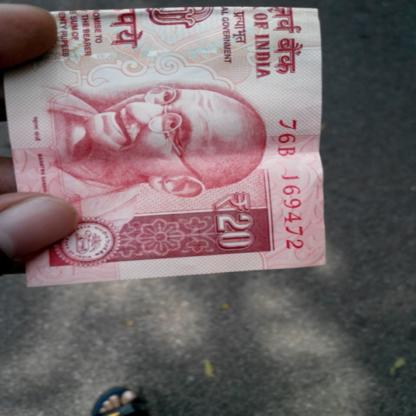Old20Front: (6, 7, 312, 270)
